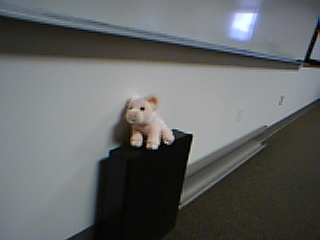piggy: (124, 93, 176, 151)
